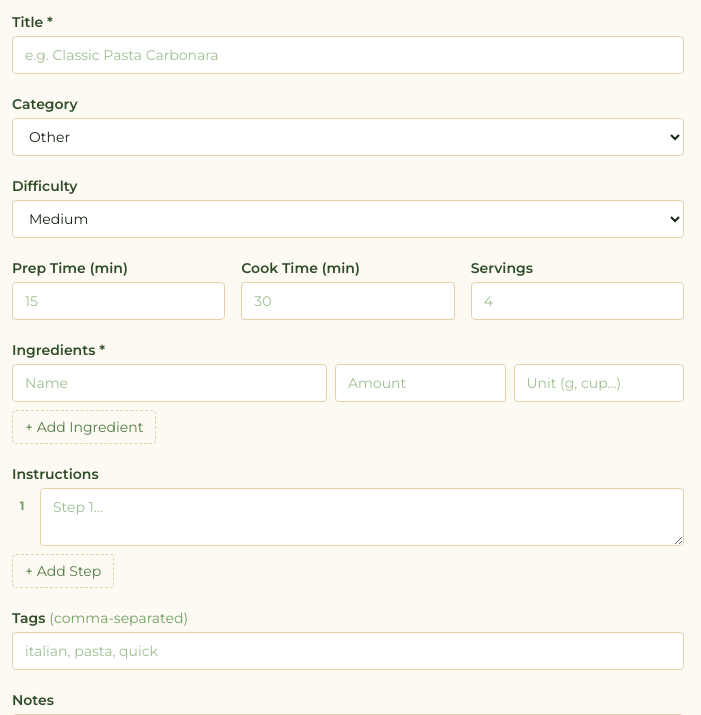
Scenario: RecipeForm rendered › Add Ingredient button adds a new ingredient row
Click the button "+ Add Ingredient" at (84, 427), box [12,410,156,444]
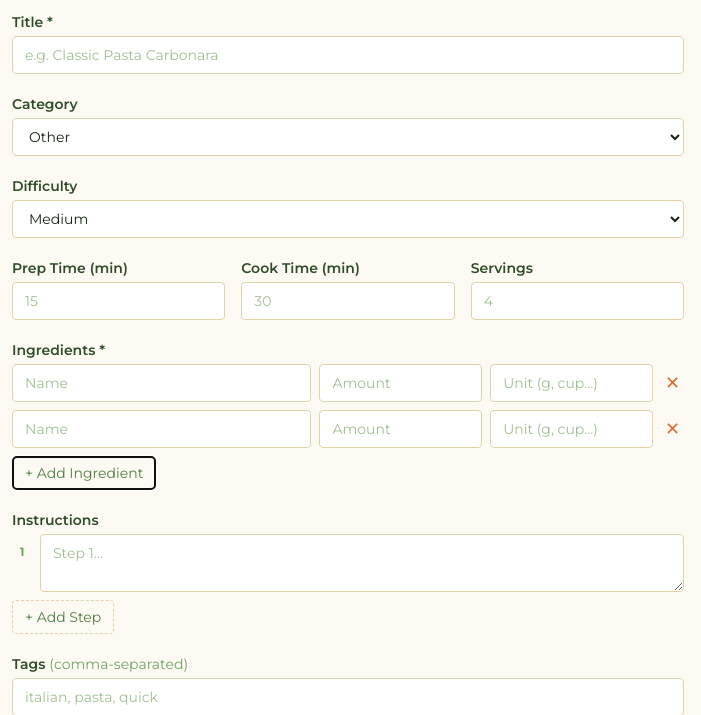
Check: the number of fields with placeholder "Name" is 2, box [12,364,312,402]; [12,410,312,448]
